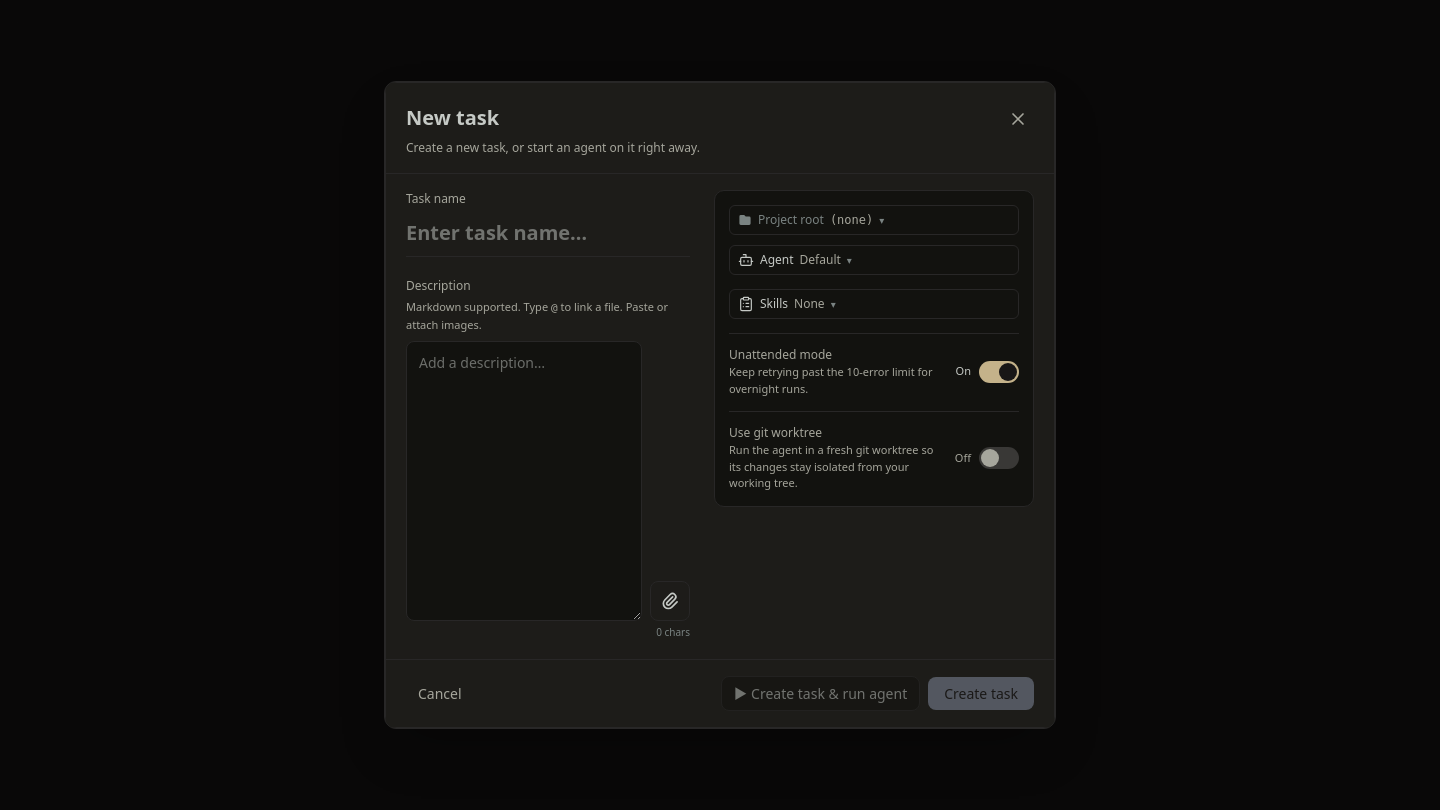
Scenario: KanbanTaskDetailDialog — Use git worktree toggle › prefills the path under ~/.config/pabrik/.worktrees when toggled on
Type "My task" into the field with test id "kanban-task-detail-create-name" at (548, 236), box [406,216,690,257]
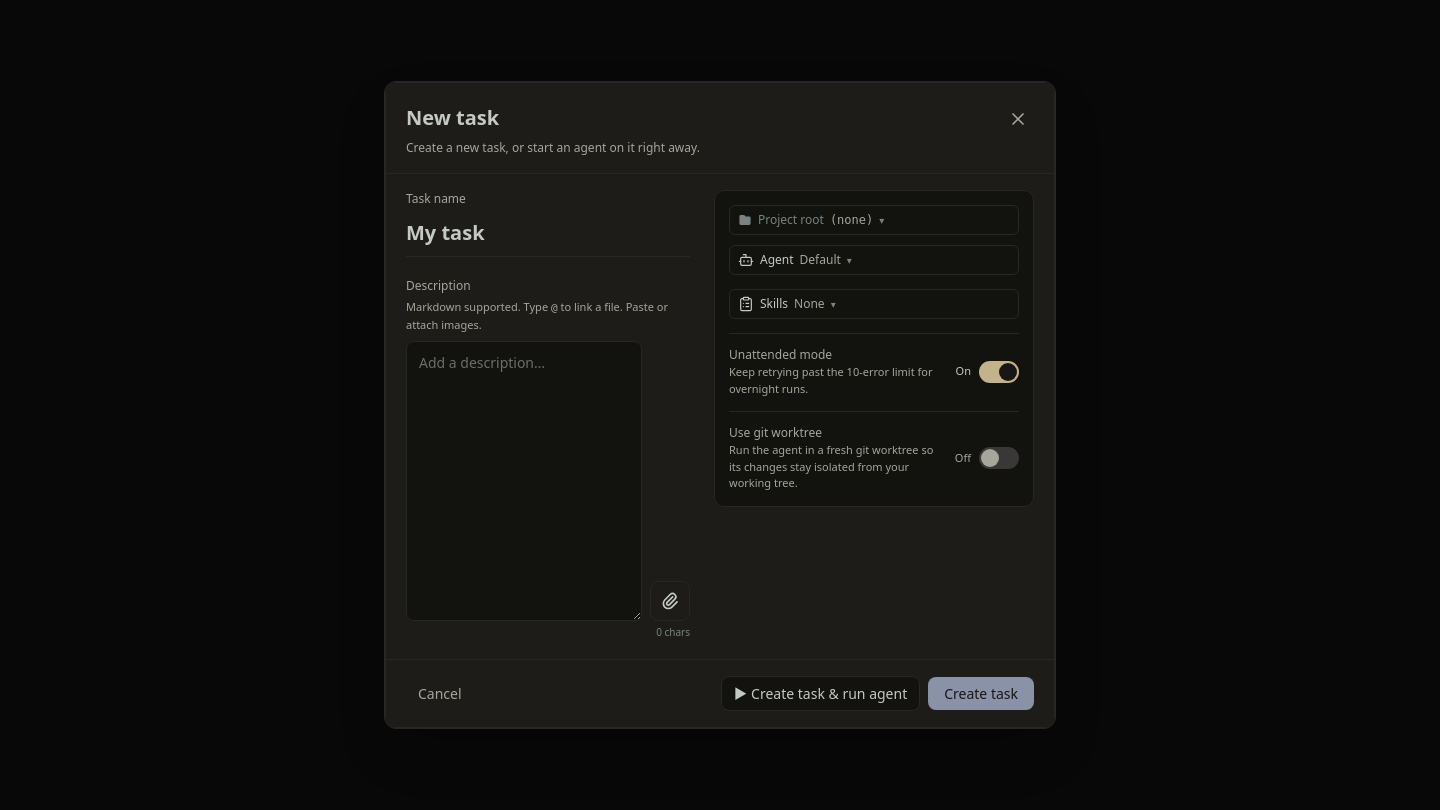
Click the checkbox with test id "kanban-task-detail-use-git-worktree-toggle" at (987, 458), box [955,447,1019,469]
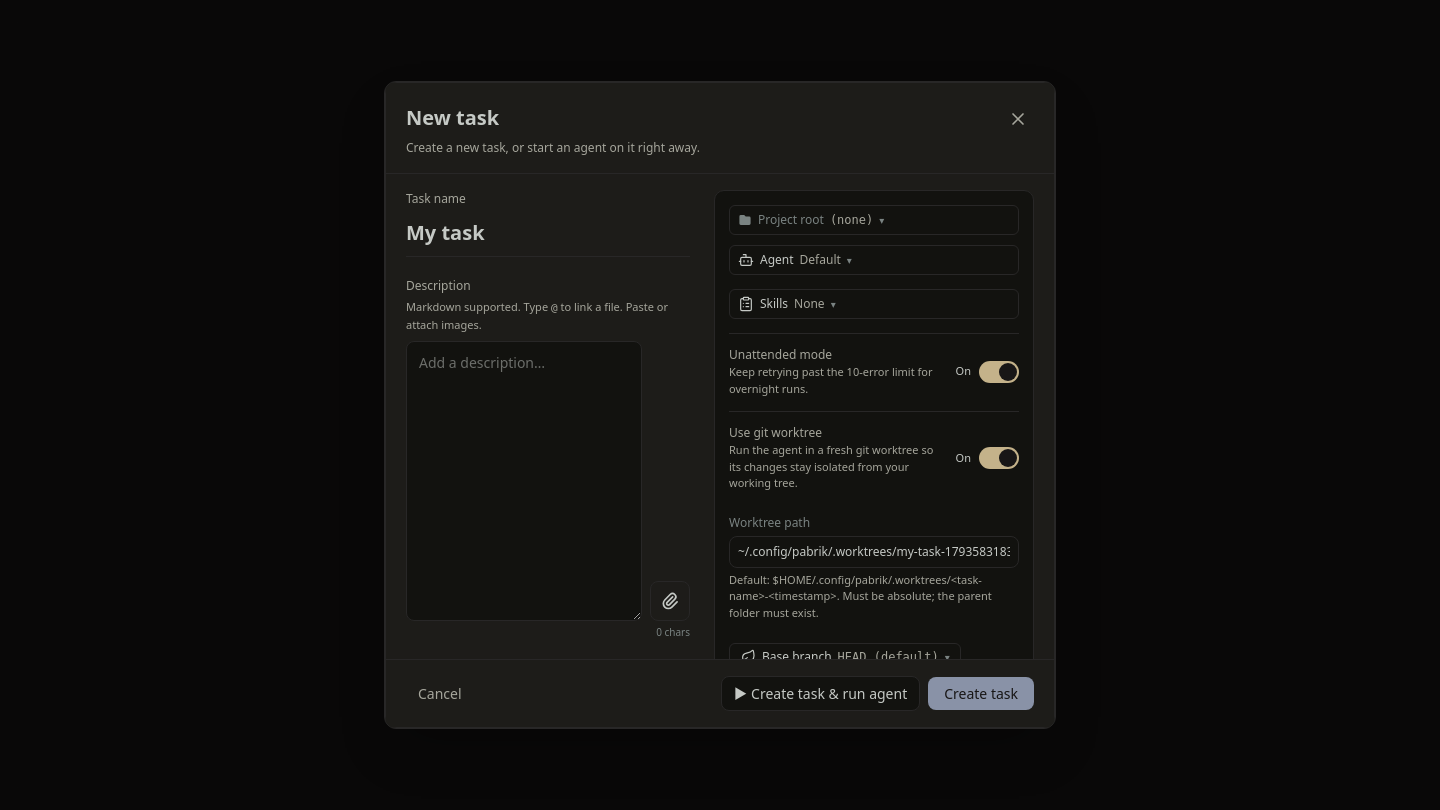
Expected: the field with test id "kanban-task-detail-use-git-worktree-path" is shown, [729,536,1019,568]
